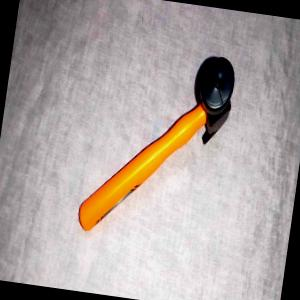martelo: (77, 40, 238, 250)
